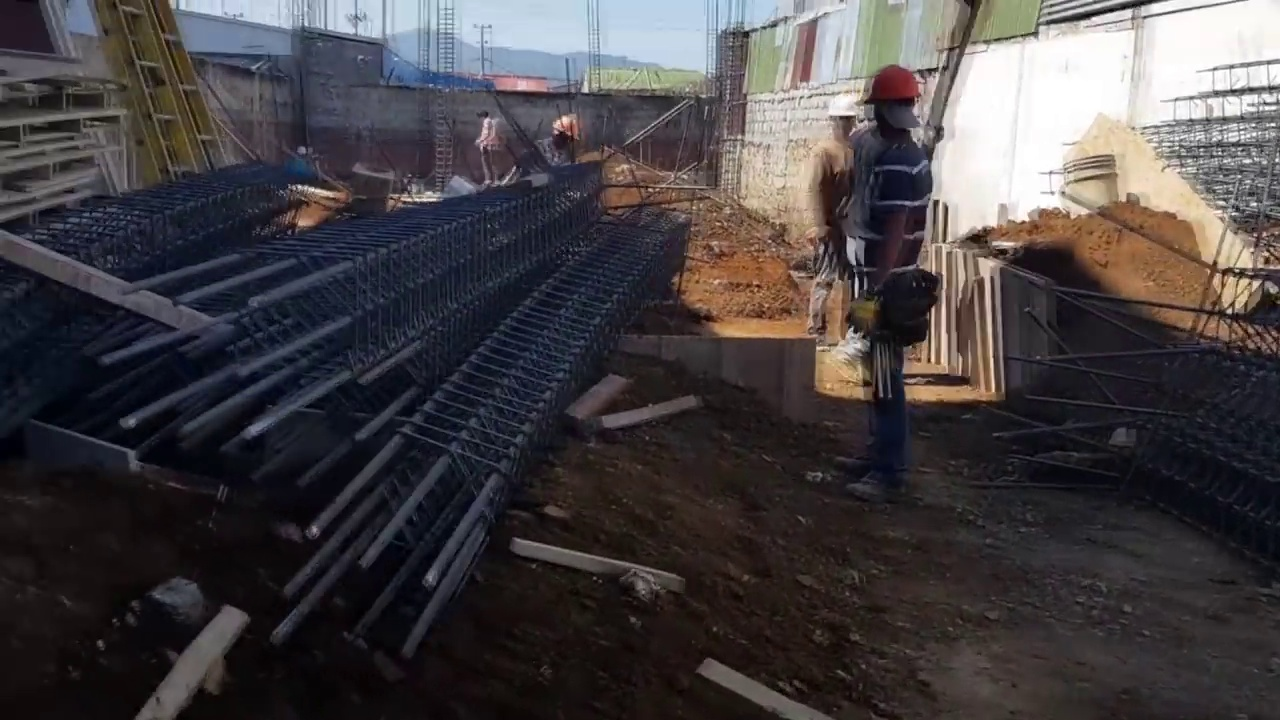helmet: (864, 65, 920, 106), (552, 114, 580, 142), (827, 96, 859, 119)
helmet-off: (474, 110, 488, 121)
helmet-on: (863, 65, 920, 137), (826, 96, 858, 145), (548, 113, 580, 151)
person: (842, 69, 939, 509), (803, 93, 865, 342), (474, 111, 509, 187), (534, 114, 580, 167)
